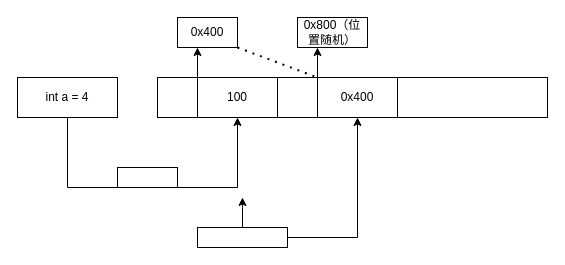
Image size: 565x265. Some labels were removed from this diagram. Each missing label, with the centre of its shape:
copy a: the point at 147,177
swap（int *a）: the point at 242,237
